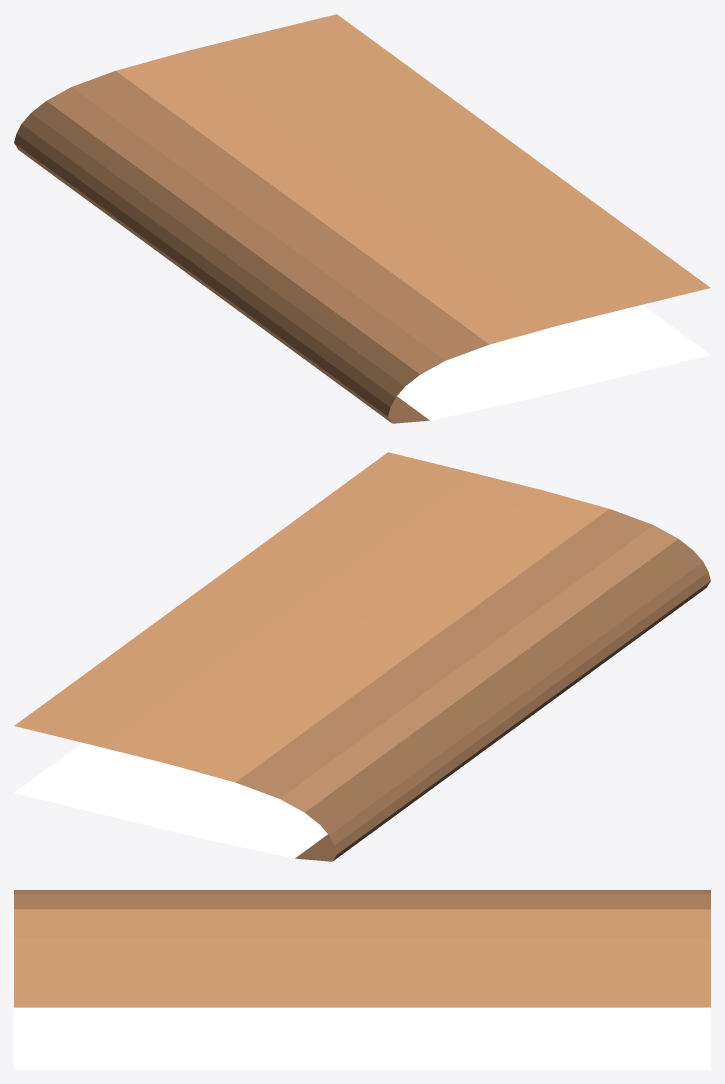
Rendered from soil_tile_1_2.fbx.
3 renders of one model, top to bottom at view 1: azimuth 30°, elevation 25°; view 2: azimuth 150°, elevation 25°; view 3: azimuth 270°, elevation 25°, orthographic. The views are drawn at different scales.
Visible parts, largest first — view 1: _Corner_1_2; view 2: _Corner_1_2; view 3: _Corner_1_2.
Boxes of the visible parts, left/top/right/bottom form: _Corner_1_2: left=14, top=14, right=710, bottom=423; _Corner_1_2: left=14, top=452, right=710, bottom=861; _Corner_1_2: left=14, top=890, right=710, bottom=1069.
Size of the model in its own units: 0.4985 by 1 by 0.0988.
